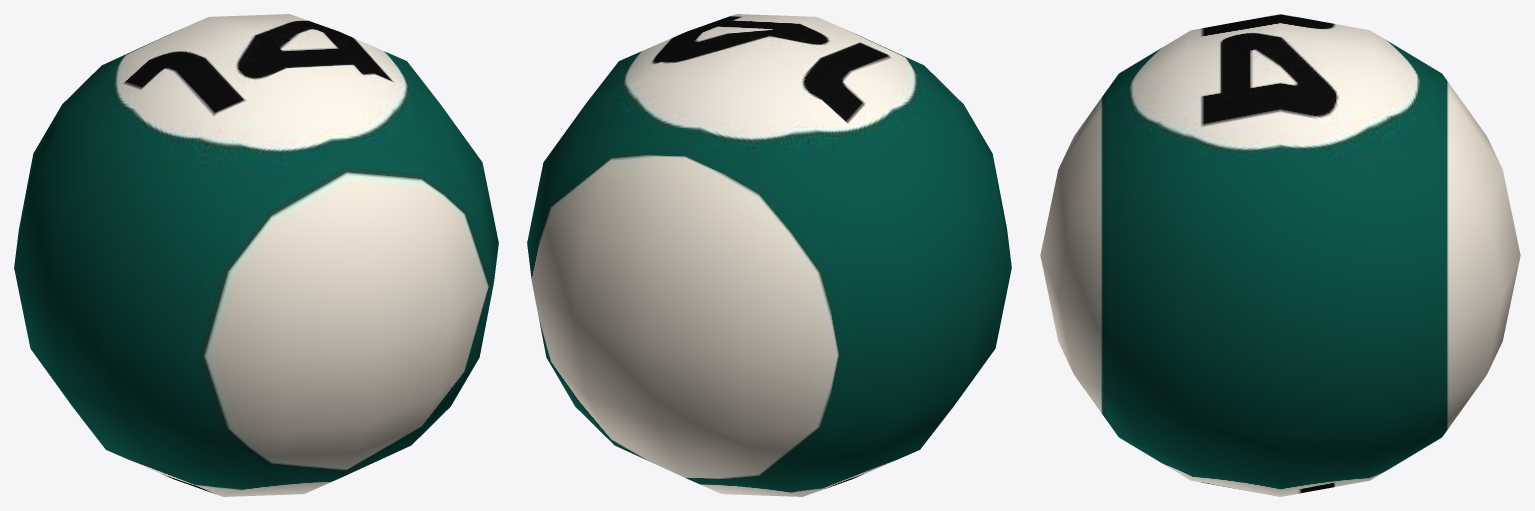
File: ball_14.fbx
The picture shows the model from 3 angles, left to right: view 1: azimuth 30°, elevation 25°; view 2: azimuth 150°, elevation 25°; view 3: azimuth 270°, elevation 25°; orthographic projection.
Visible parts, largest first — view 1: BilliardBall.014; view 2: BilliardBall.014; view 3: BilliardBall.014.
Part boxes in pixels (bbox=[...]): BilliardBall.014: bbox=[14, 14, 498, 496]; BilliardBall.014: bbox=[527, 14, 1011, 496]; BilliardBall.014: bbox=[1040, 14, 1520, 496].
Bounding box in the file's own units: 0.0753 × 0.0753 × 0.0753.
